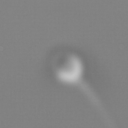normal: (76, 79, 128, 128)
